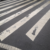zebra: (1, 1, 49, 41)
